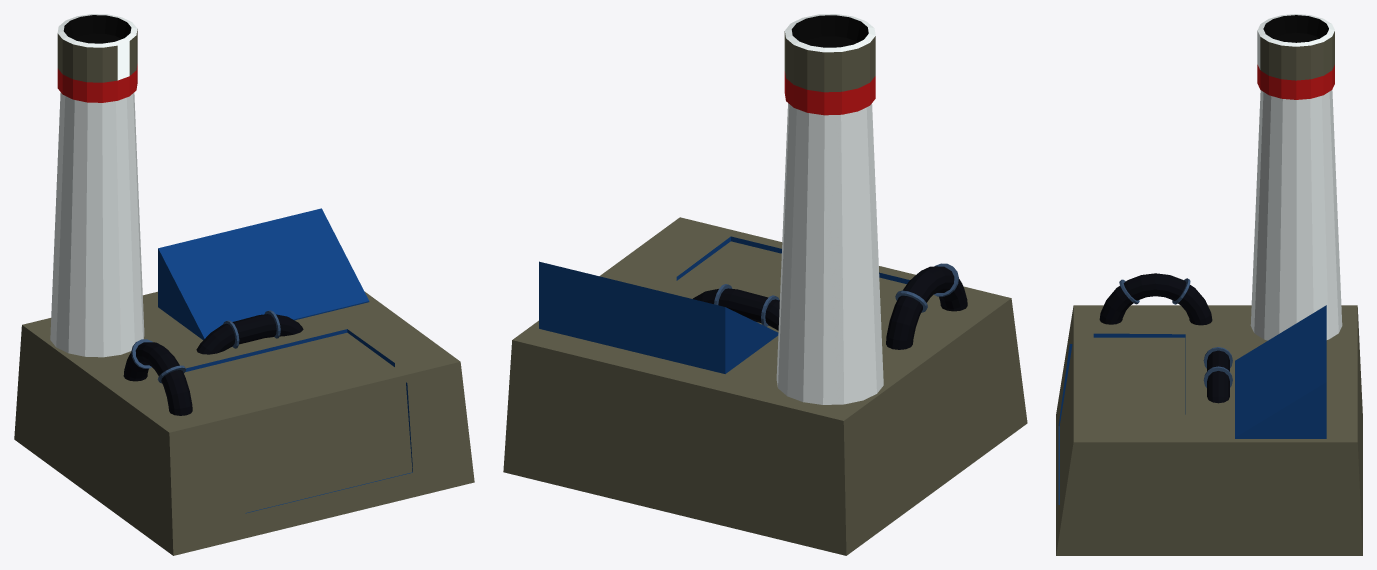
The model's file is Factory.obj.
The picture shows the model from 3 angles, left to right: view 1: azimuth 30°, elevation 25°; view 2: azimuth 150°, elevation 25°; view 3: azimuth 270°, elevation 25°; orthographic projection. The views are drawn at different scales.
Parts seen in each view (by area): view 1: Cylinder.005; view 2: Cylinder.005; view 3: Cylinder.005.
Boxes of the visible parts, x1=… form: Cylinder.005: x1=14, y1=14, x2=474, y2=555; Cylinder.005: x1=503, y1=14, x2=1027, y2=555; Cylinder.005: x1=1056, y1=14, x2=1362, y2=555.
Bounding box in the file's own units: 7.31 × 9.82 × 6.69.
